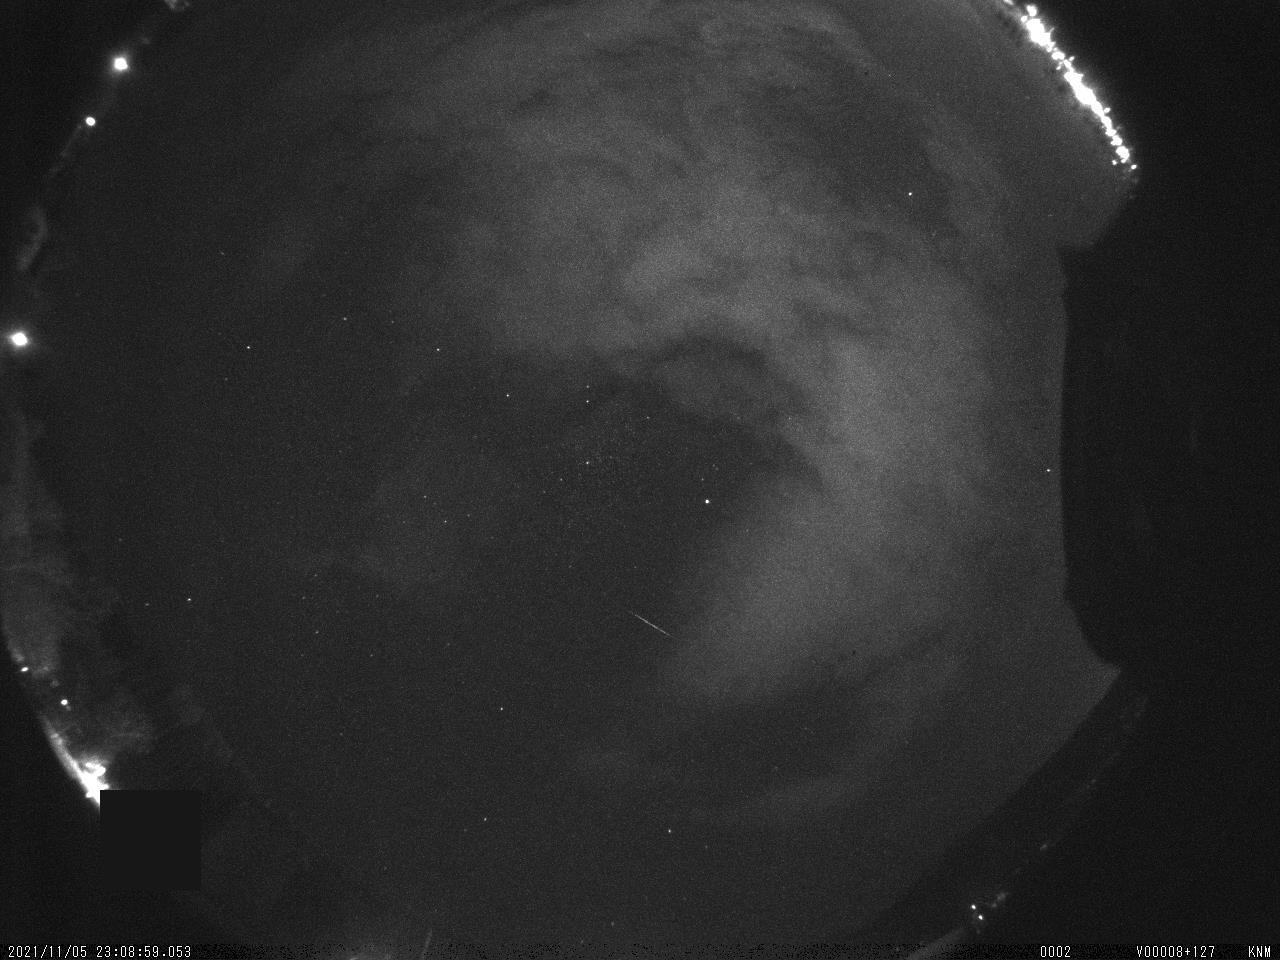Meteor: (622, 605, 675, 641)
